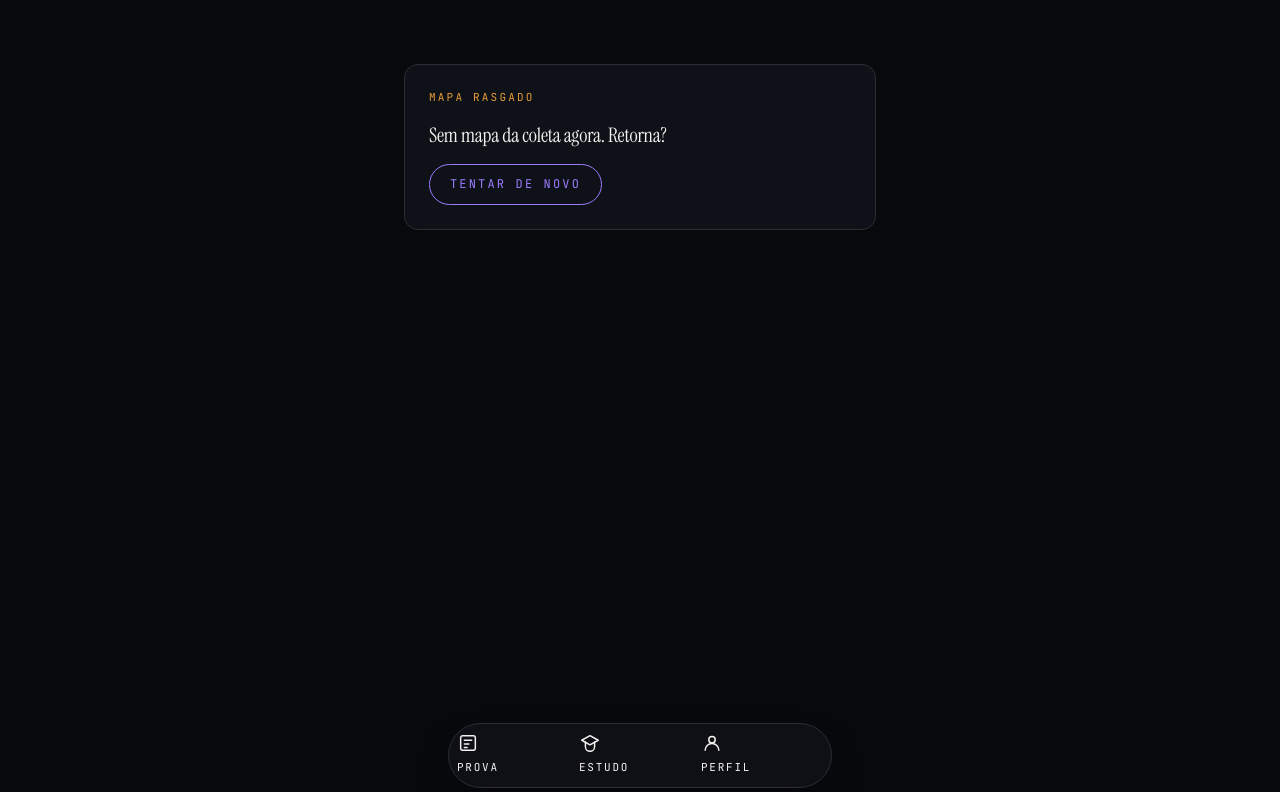
Test: EstudoPage (integration) › renders the error state and recovers on retry when fetchQuests throws
expect the text "Sem mapa da coleta agora. Retorna?" is shown: met, box x1=429 y1=122 x2=667 y2=148
Click the button "Tentar de novo" at coordinates (516, 184), box x1=429 y1=164 x2=602 y2=205
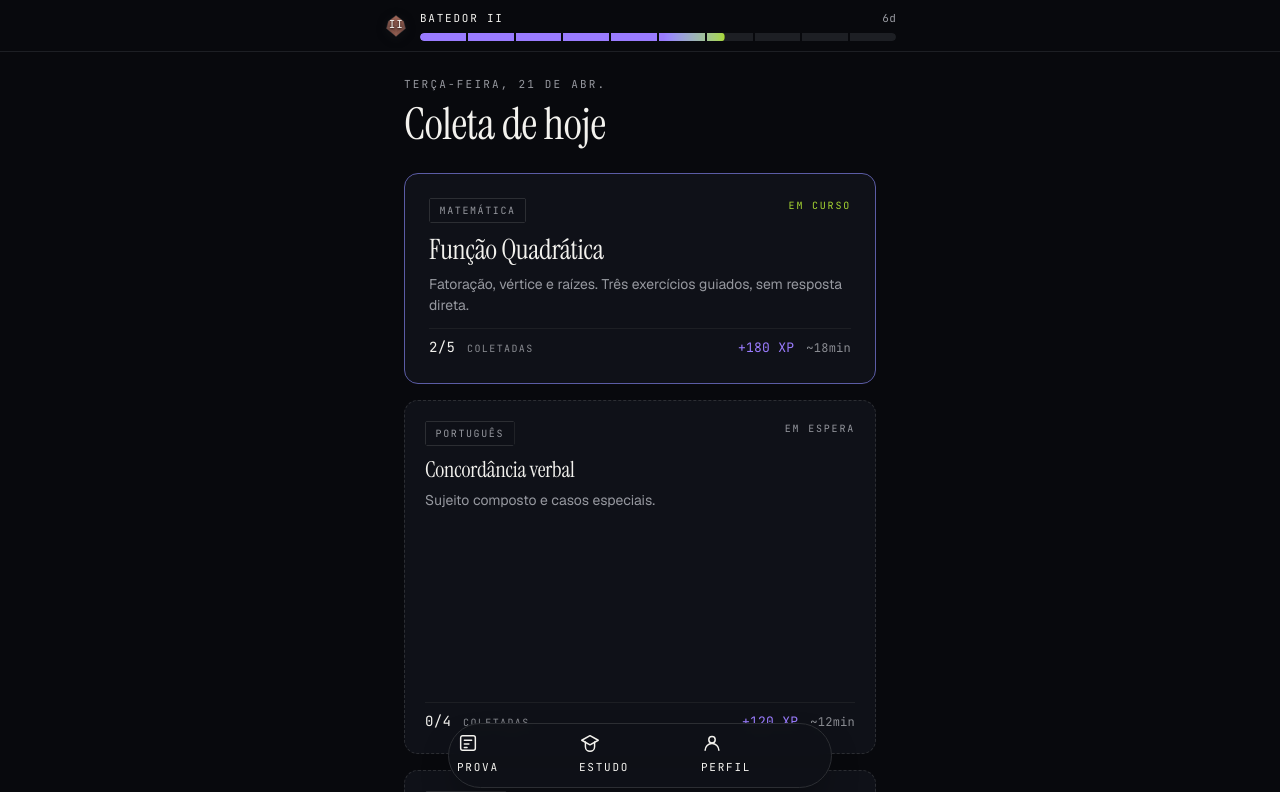
expect the heading "Coleta de hoje" is shown: met, box x1=404 y1=95 x2=606 y2=153
